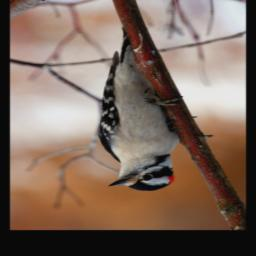Woodpecker: (99, 26, 184, 192)
